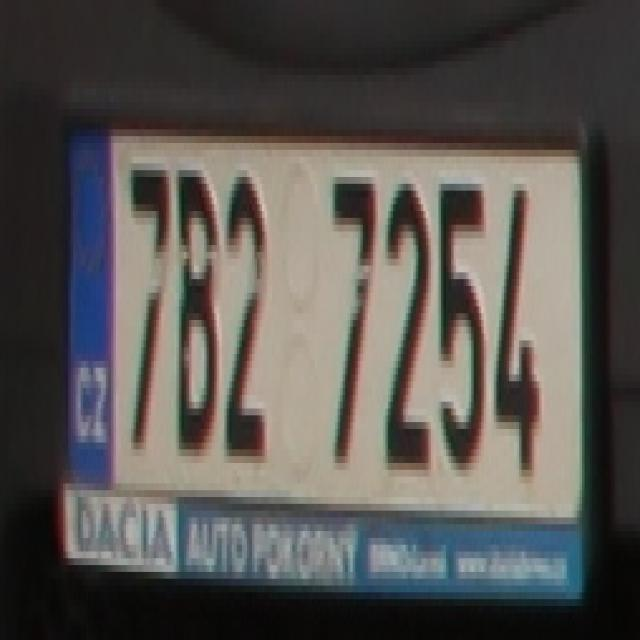2: (383, 156, 433, 476), (222, 163, 264, 463)
4: (491, 184, 547, 490)
5: (436, 164, 486, 484)
7: (330, 170, 376, 470), (123, 157, 164, 463)
B: (174, 157, 214, 463)
